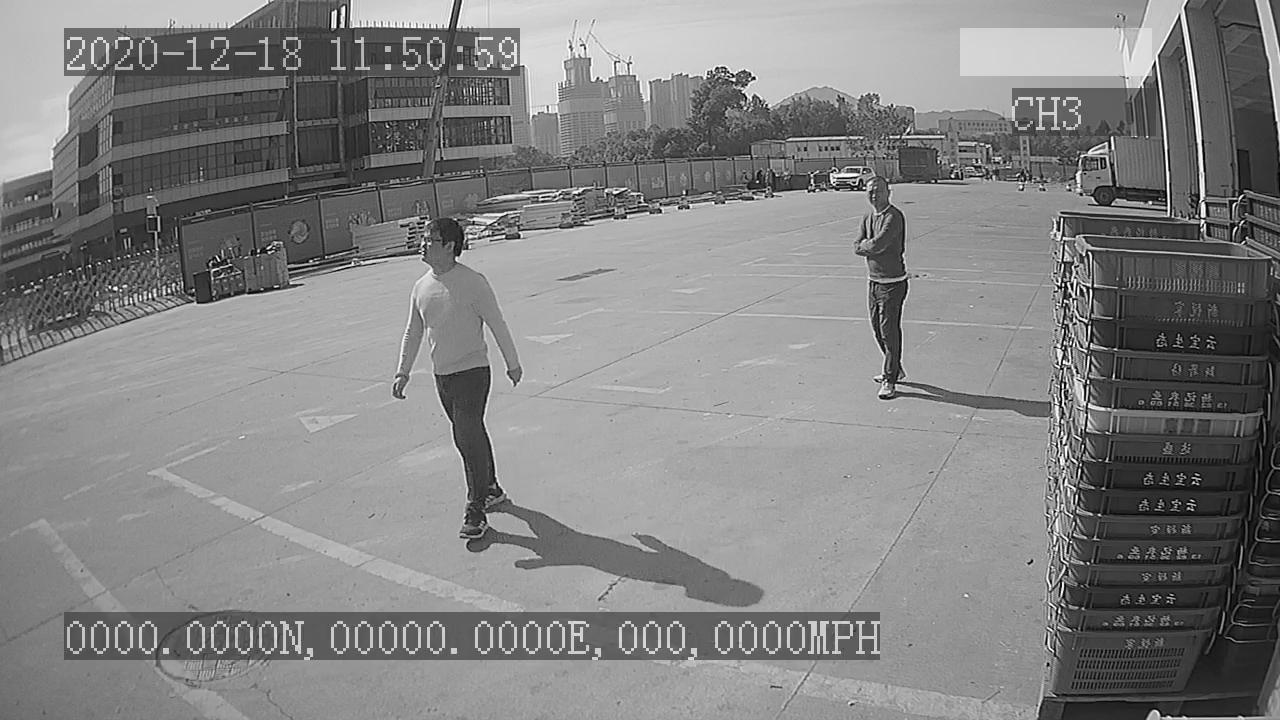person: (384, 211, 526, 547), (845, 172, 917, 408)
